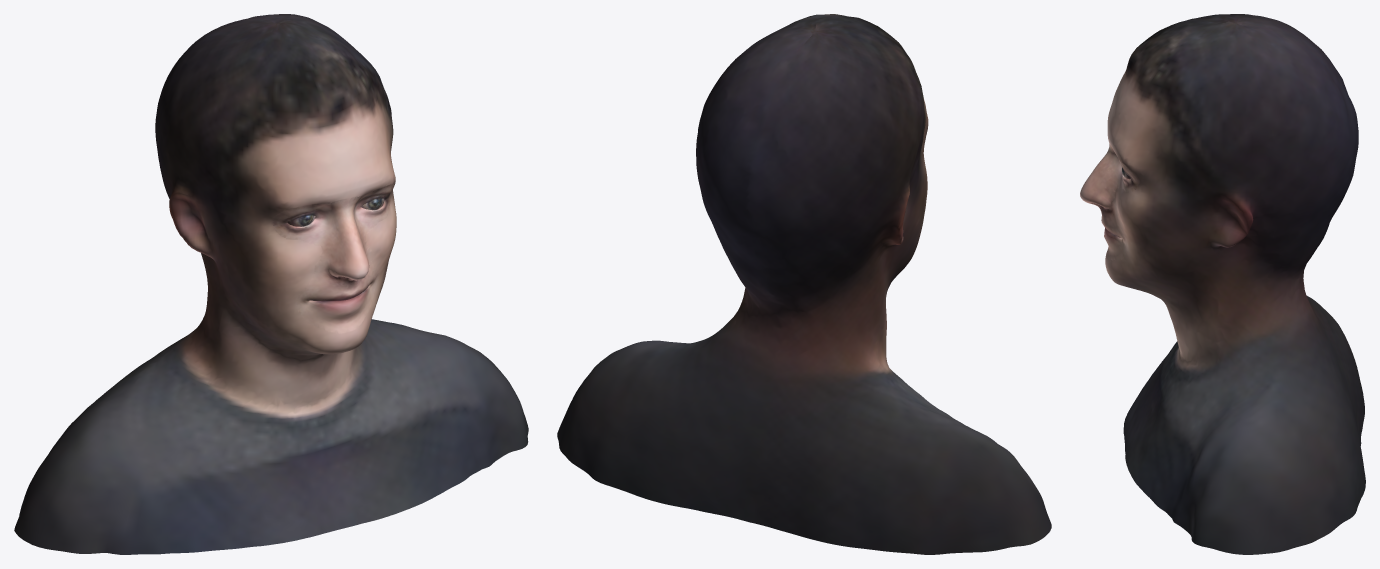
Rendered from mark.glb.
The picture shows the model from 3 angles, left to right: view 1: azimuth 30°, elevation 25°; view 2: azimuth 150°, elevation 25°; view 3: azimuth 270°, elevation 25°; orthographic projection. The views are drawn at different scales.
Visible parts, largest first — view 1: model:Mesh; view 2: model:Mesh; view 3: model:Mesh.
Boxes of the visible parts, x1,y1,x2,y2 form: model:Mesh: [14, 14, 528, 554]; model:Mesh: [557, 14, 1051, 554]; model:Mesh: [1080, 14, 1365, 554].
Size of the model in its own units: 0.4365 by 0.3889 by 0.2382.
1 material, 1 textured.
